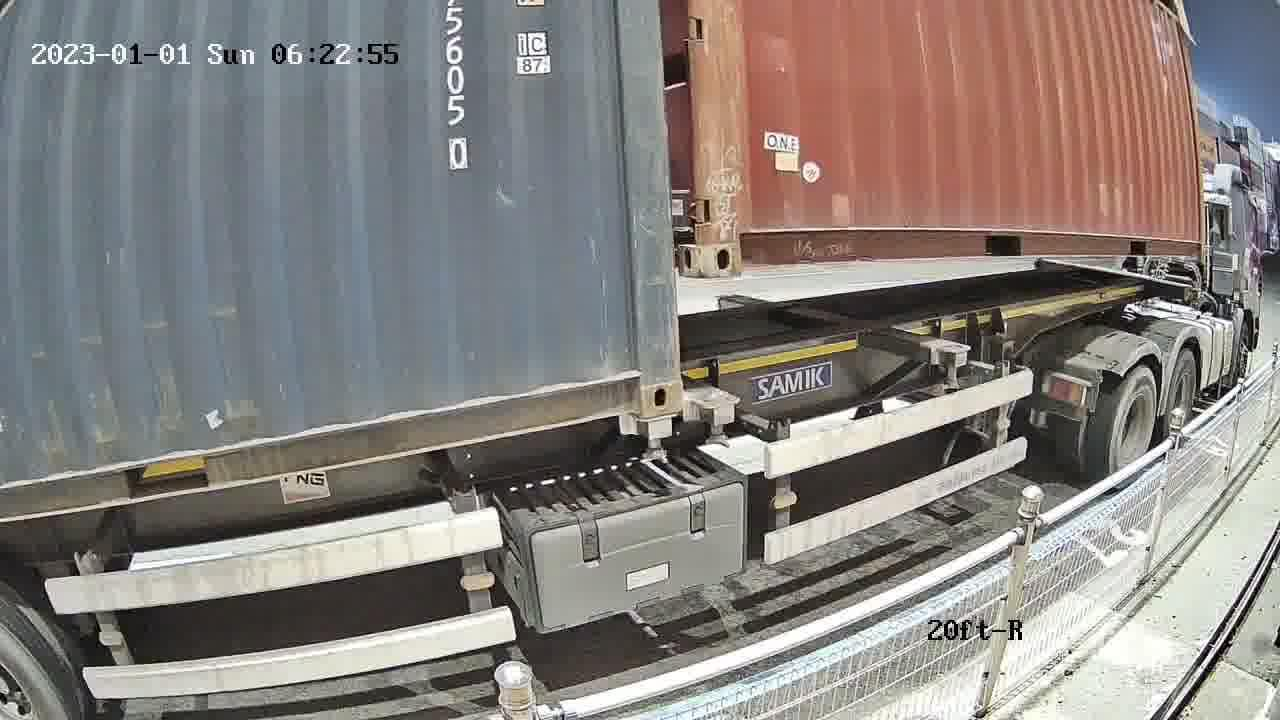Cone: (692, 391, 737, 449), (636, 415, 679, 462)
Hole_L: (701, 210, 776, 275)
Hole_R: (599, 348, 684, 416)
Tire: (1107, 372, 1156, 486), (1164, 354, 1197, 446)
